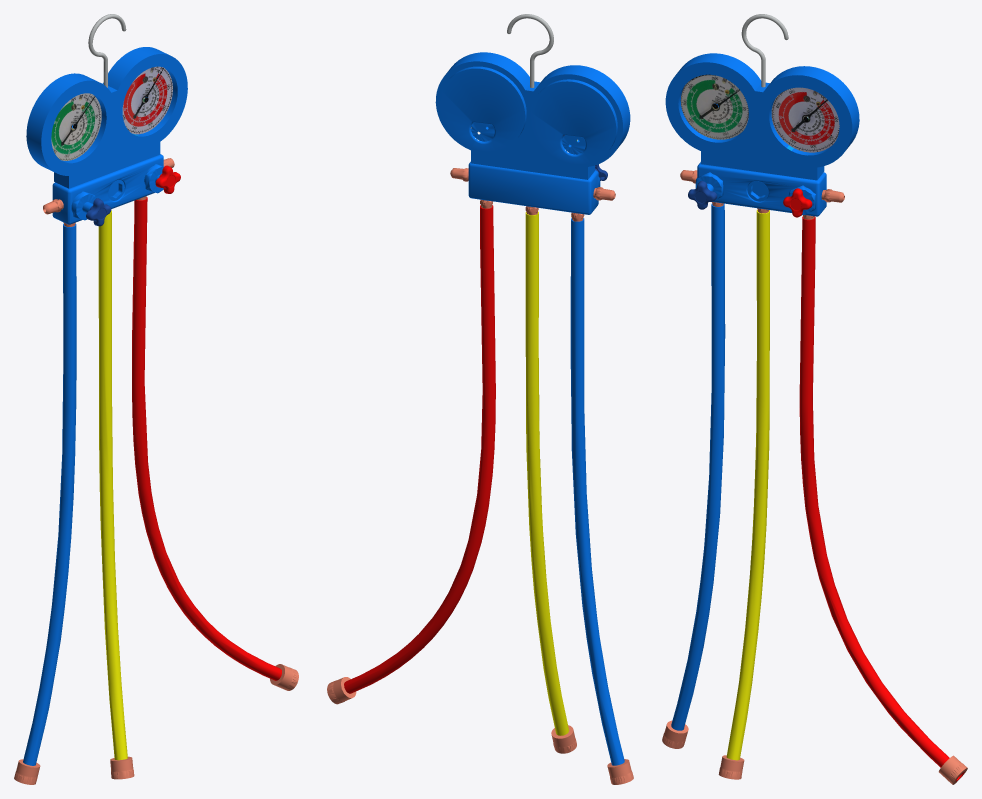
Rendered from Recovery Unit.fbx.
3 views of the same model, side by side, from view 1: azimuth 30°, elevation 25°; view 2: azimuth 150°, elevation 25°; view 3: azimuth 330°, elevation 25° (orthographic).
Parts seen in each view (by area): view 1: Recovery Unit V3_B001, Blue pip, Yellow pip, Red pip; view 2: Recovery Unit V3_B001, Blue pip, Red pip, Yellow pip; view 3: Recovery Unit V3_B001, Red pip, Yellow pip, Blue pip.
Boxes of the visible parts, bbox=[...] form: Recovery Unit V3_B001: bbox=[26, 14, 187, 224]; Blue pip: bbox=[14, 223, 76, 784]; Yellow pip: bbox=[98, 210, 134, 779]; Red pip: bbox=[132, 197, 298, 690]; Recovery Unit V3_B001: bbox=[435, 14, 630, 214]; Blue pip: bbox=[570, 218, 633, 784]; Red pip: bbox=[327, 205, 495, 704]; Yellow pip: bbox=[525, 211, 576, 753]; Recovery Unit V3_B001: bbox=[665, 14, 859, 216]; Red pip: bbox=[799, 216, 967, 784]; Yellow pip: bbox=[718, 210, 769, 779]; Blue pip: bbox=[662, 203, 725, 748].
Size of the model in its own units: 23.68 by 58.02 by 6.6.
Materials: 2 (2 with a texture image).
